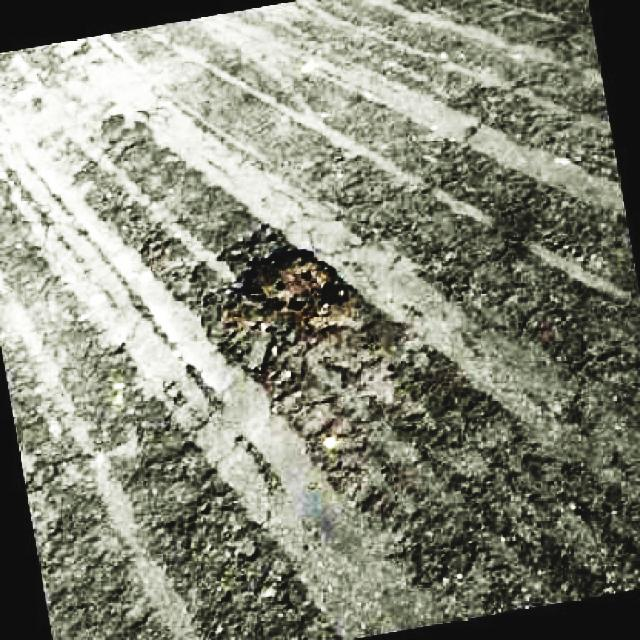pothole: (235, 246, 354, 322)
